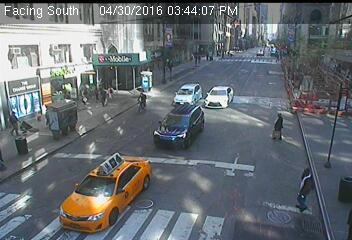neg: (66, 140, 91, 173), (107, 146, 129, 177), (161, 116, 182, 144), (197, 67, 218, 94), (131, 87, 151, 113), (211, 32, 229, 56), (36, 106, 53, 129), (166, 57, 182, 79), (266, 24, 279, 42)
pos: (287, 163, 324, 212), (266, 108, 290, 140), (2, 108, 21, 134), (75, 80, 94, 106), (104, 82, 118, 100)
